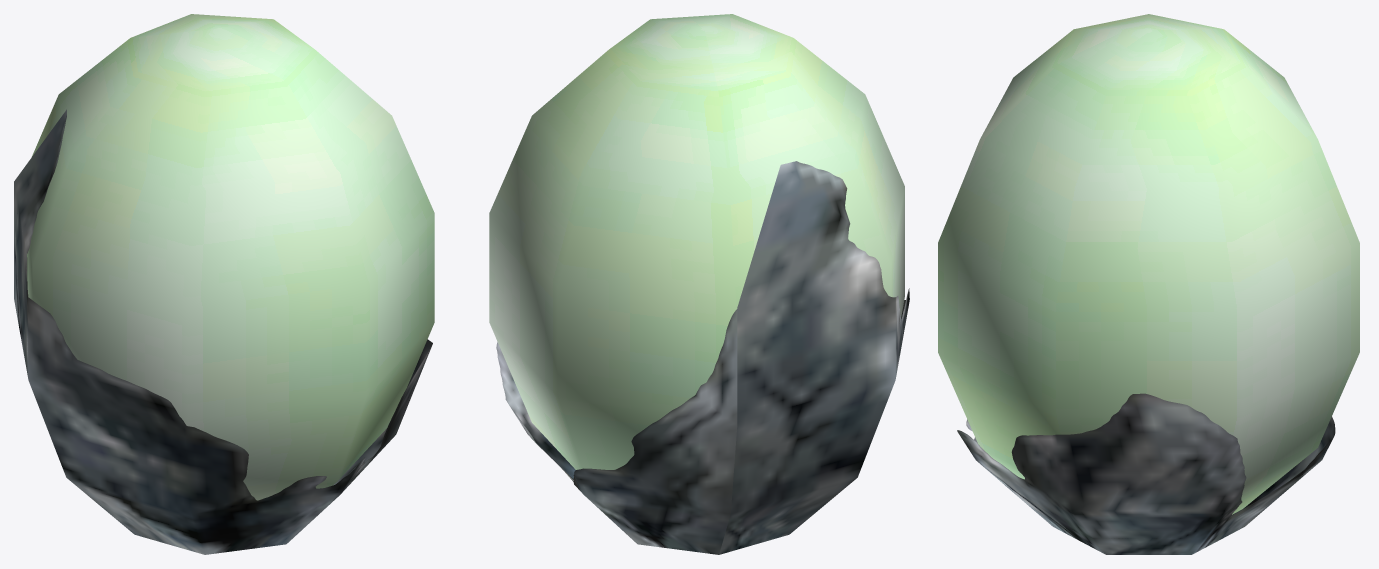
The model's file is force_amplification_crystal_l0.fbx.
3 renders of one model, left to right at view 1: azimuth 30°, elevation 25°; view 2: azimuth 150°, elevation 25°; view 3: azimuth 270°, elevation 25°, orthographic.
Parts seen in each view (by area): view 1: mesh_node; view 2: mesh_node; view 3: mesh_node.
Part boxes in pixels (x1=…): mesh_node: x1=14, y1=14, x2=434, y2=554; mesh_node: x1=489, y1=14, x2=909, y2=554; mesh_node: x1=938, y1=14, x2=1359, y2=554.
Size of the model in its own units: 0.2 by 0.2611 by 0.2028.
2 materials, 2 textured.
